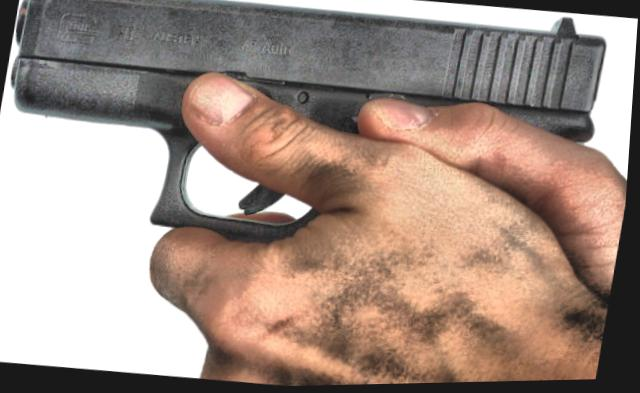pistol: (0, 0, 616, 290)
